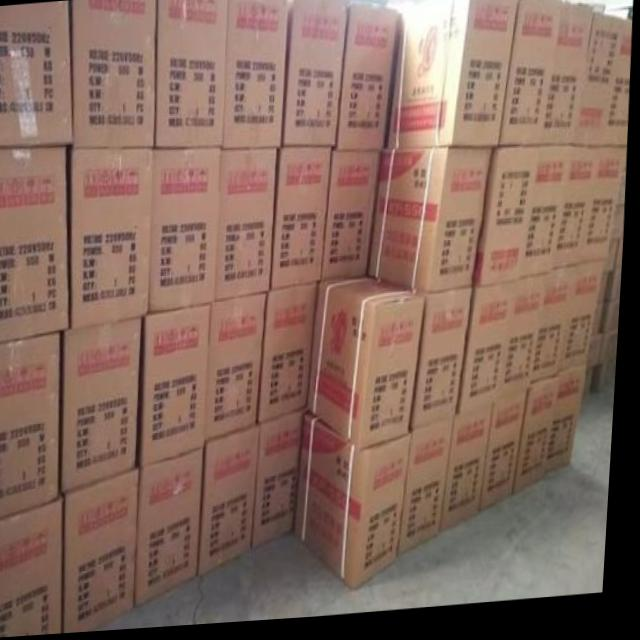box: (301, 418, 416, 596), (312, 282, 428, 455), (389, 0, 518, 154), (370, 154, 495, 299), (73, 148, 156, 330), (0, 147, 74, 343), (67, 319, 146, 494), (71, 0, 156, 149), (71, 468, 146, 635), (0, 333, 65, 521), (154, 150, 223, 315), (0, 1, 76, 147), (146, 307, 214, 468), (157, 0, 228, 150), (144, 450, 209, 608), (500, 0, 564, 153), (0, 499, 70, 638), (225, 0, 288, 151), (285, 0, 348, 150), (411, 294, 477, 434), (219, 151, 279, 303), (209, 296, 271, 443), (477, 154, 542, 293), (338, 8, 398, 156), (205, 428, 264, 575), (275, 151, 334, 293), (263, 286, 321, 428), (325, 154, 385, 284), (258, 412, 313, 549), (406, 424, 460, 562), (543, 10, 595, 153), (523, 152, 578, 285), (464, 289, 519, 422), (577, 20, 625, 156), (449, 413, 497, 537), (504, 282, 550, 409), (555, 156, 602, 276), (534, 273, 582, 390), (583, 156, 629, 271), (488, 401, 531, 516), (522, 383, 564, 500), (564, 269, 608, 378), (554, 373, 591, 479), (605, 28, 633, 154), (598, 338, 623, 400), (606, 309, 624, 340), (607, 246, 621, 280), (592, 343, 607, 374), (610, 278, 625, 308), (601, 279, 614, 310), (615, 214, 627, 247), (597, 310, 609, 342), (587, 374, 600, 402), (620, 178, 628, 214), (619, 248, 626, 277)
